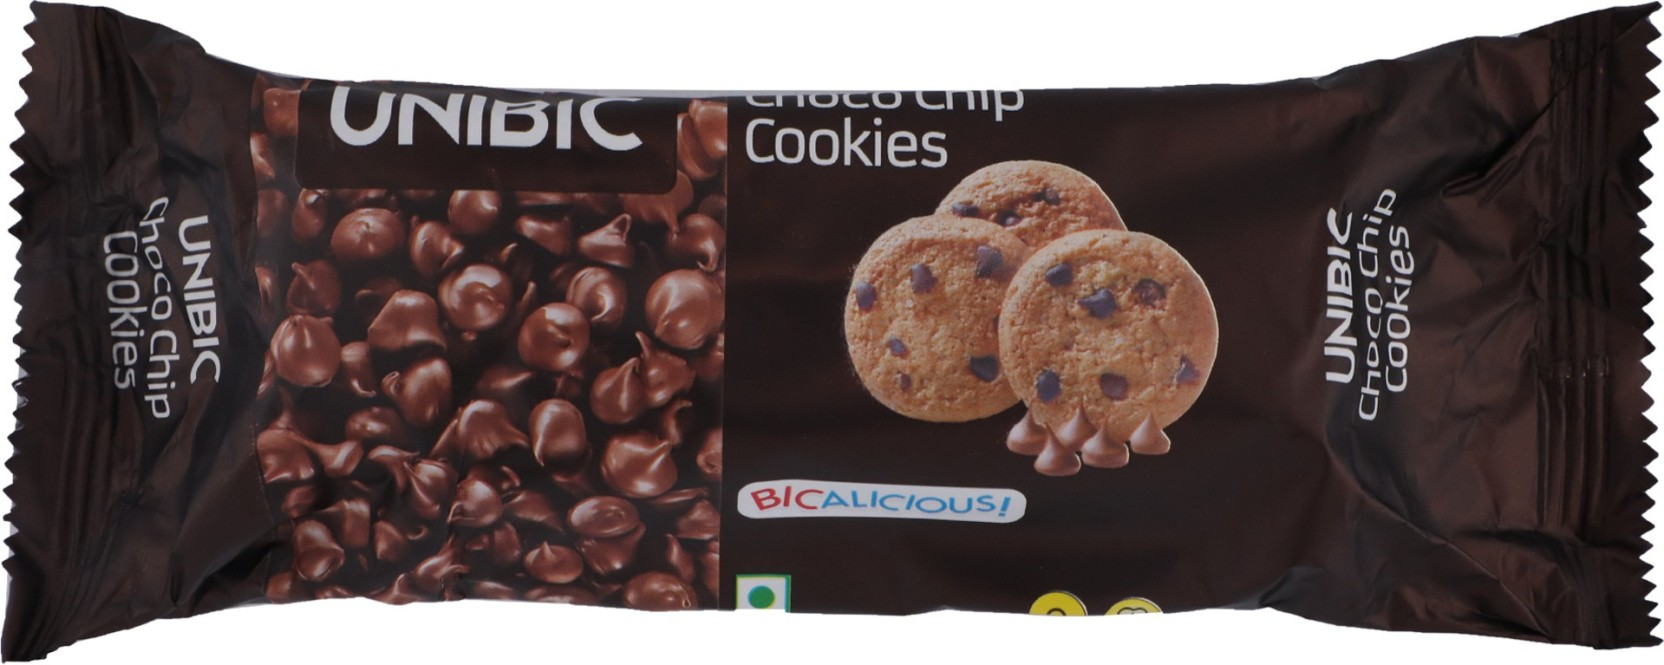VEG: (736, 571, 788, 618)
